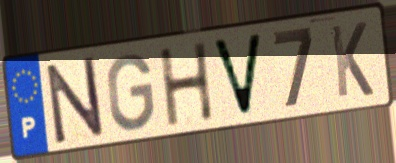7: (270, 23, 318, 112)
G: (105, 51, 156, 134)
H: (156, 39, 217, 130)
K: (327, 19, 376, 100)
N: (43, 54, 107, 148)
V: (209, 30, 266, 120)
